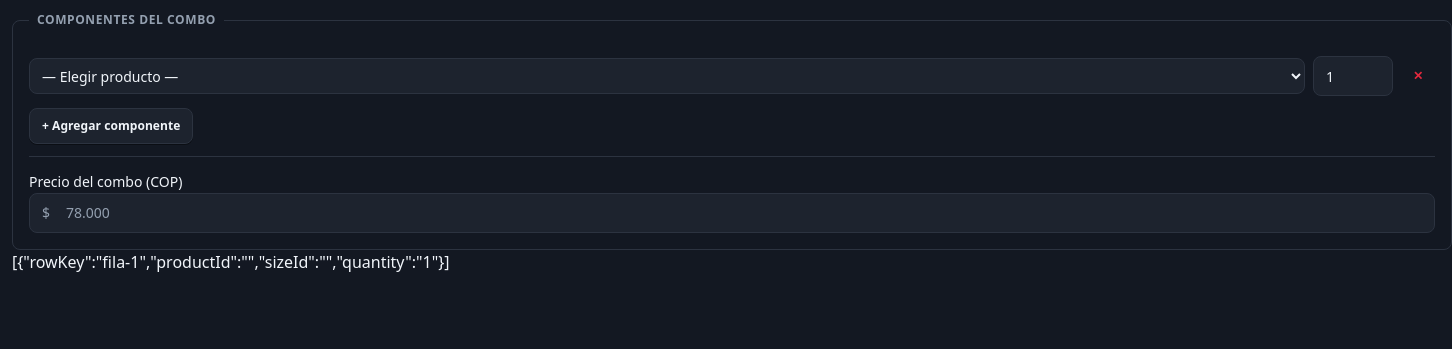
Test case: ProductFormComboSection — variante del componente › al elegir un plato con variantes aparece el selector, obligatorio y SIN nada elegido
Select "Papas TERCOS (con variantes)" in the dropdown named "Producto": (667, 76) [29,58,1305,94]
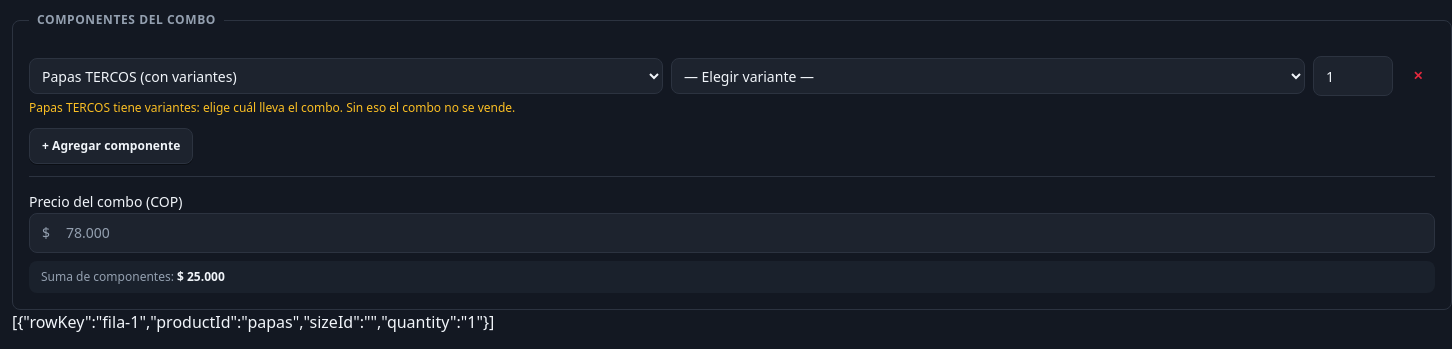
Check: the dropdown named "Variante de Papas TERCOS" shows "— Elegir variante —", box [671,58,1305,94]
